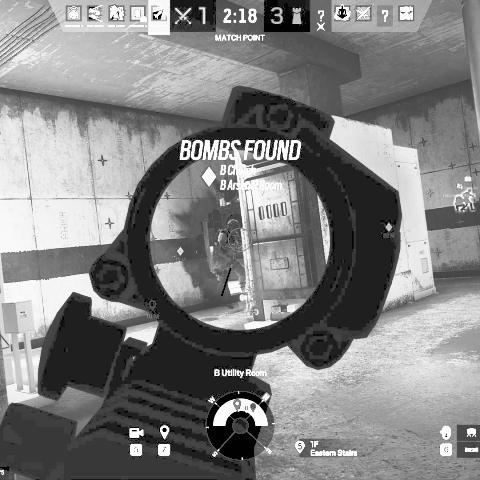Character: (213, 218, 248, 295)
Friend_label: (443, 182, 469, 198), (460, 175, 478, 190)
Head: (226, 218, 240, 232)
